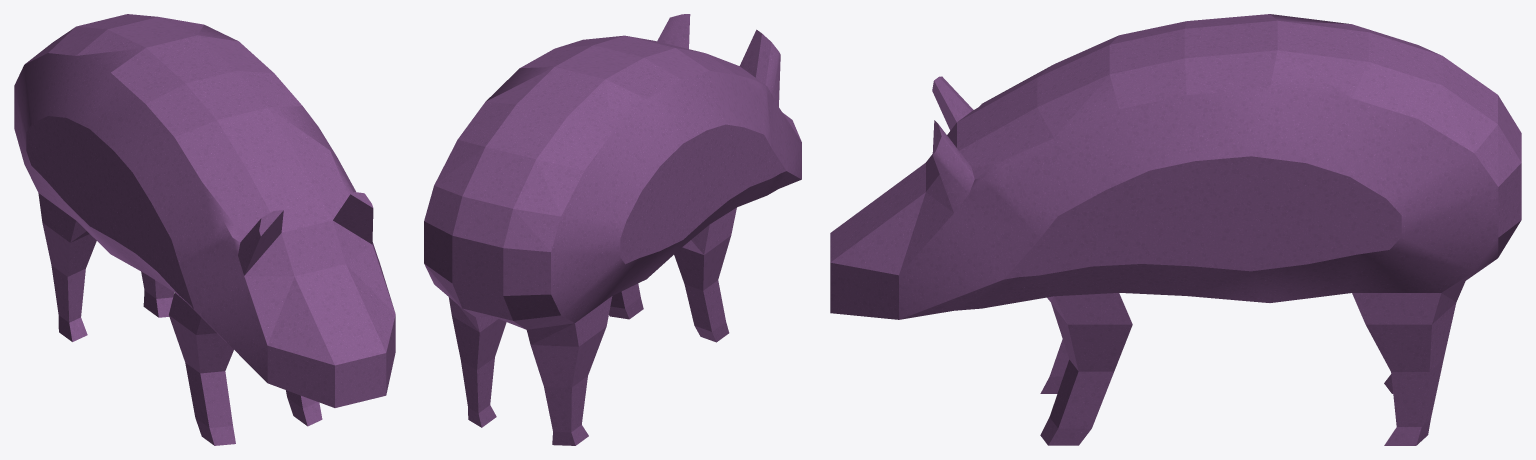
Rendered from Pig.obj.
3 renders of one model, left to right at view 1: azimuth 30°, elevation 25°; view 2: azimuth 150°, elevation 25°; view 3: azimuth 270°, elevation 25°, orthographic. The views are drawn at different scales.
Parts seen in each view (by area): view 1: Pig1; view 2: Pig1; view 3: Pig1.
Part boxes in pixels (bbox=[...]): Pig1: bbox=[14, 14, 395, 445]; Pig1: bbox=[424, 14, 801, 445]; Pig1: bbox=[830, 14, 1521, 445].
Size of the model in its own units: 0.5606 by 0.9221 by 1.52.
1 material, 1 textured.
